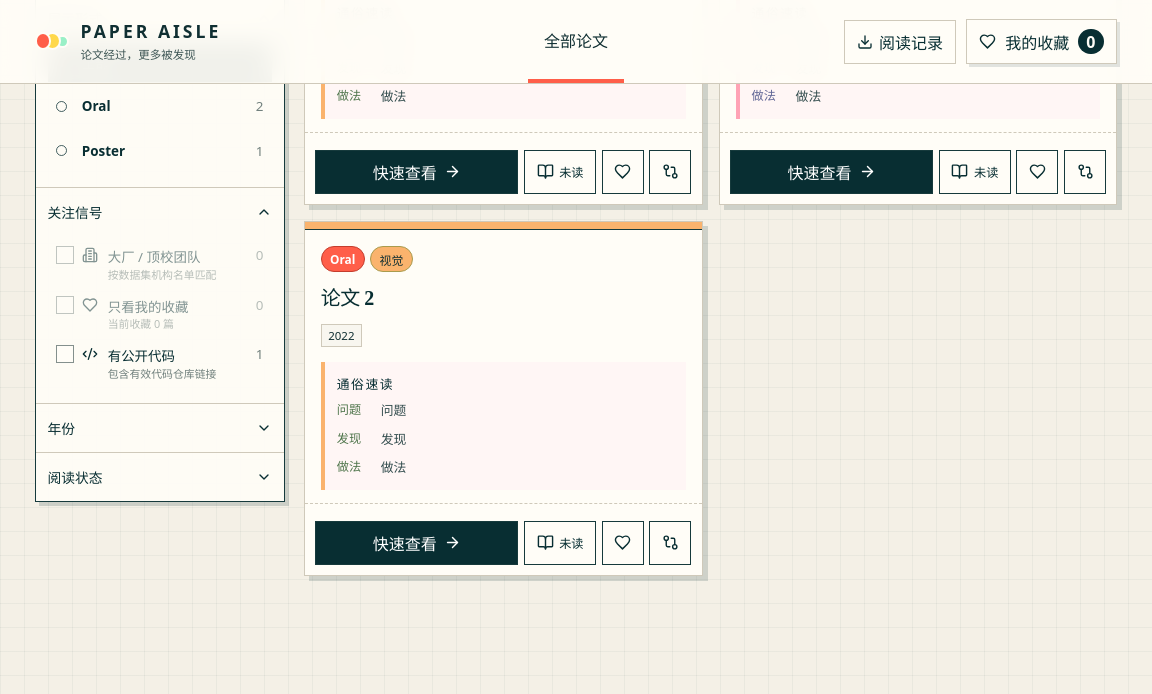
Test: Paper Aisle app › filters papers with a valid public code link
The image size is (1152, 694).
(page scrolled)
Click the checkbox labelled "有公开代码 包含有效代码仓库链接 1": (172, 363) [82,345,263,381]
(page scrolled)
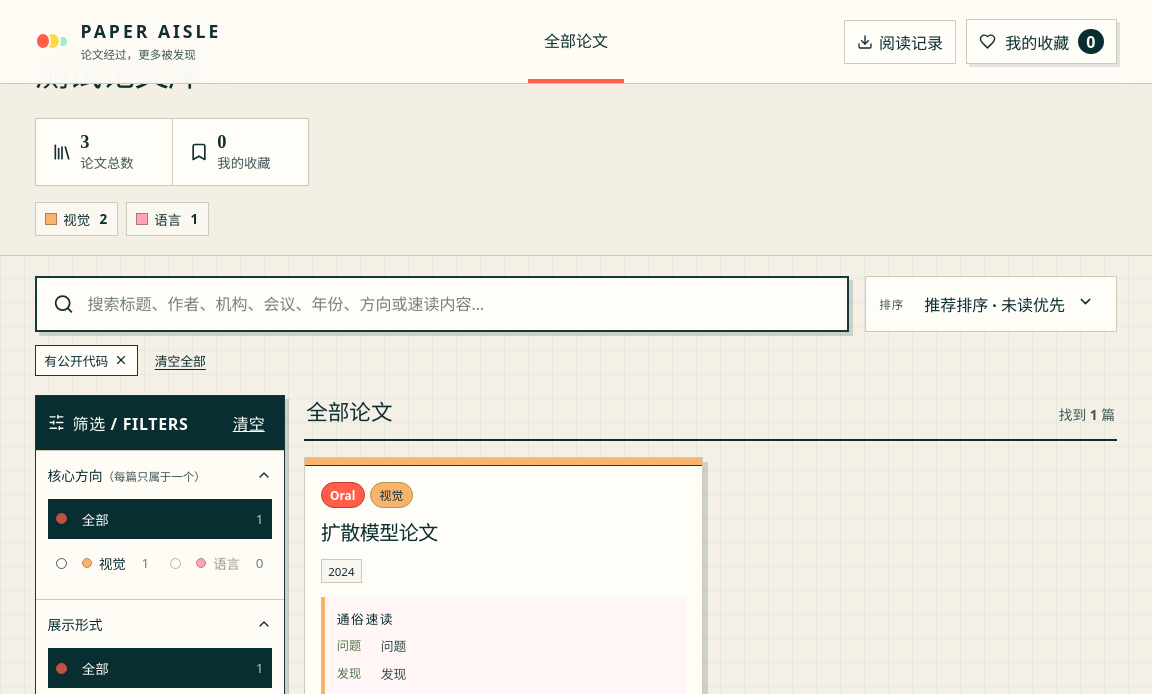
Expected: the button "有公开代码" is shown, [34,345,138,376]
